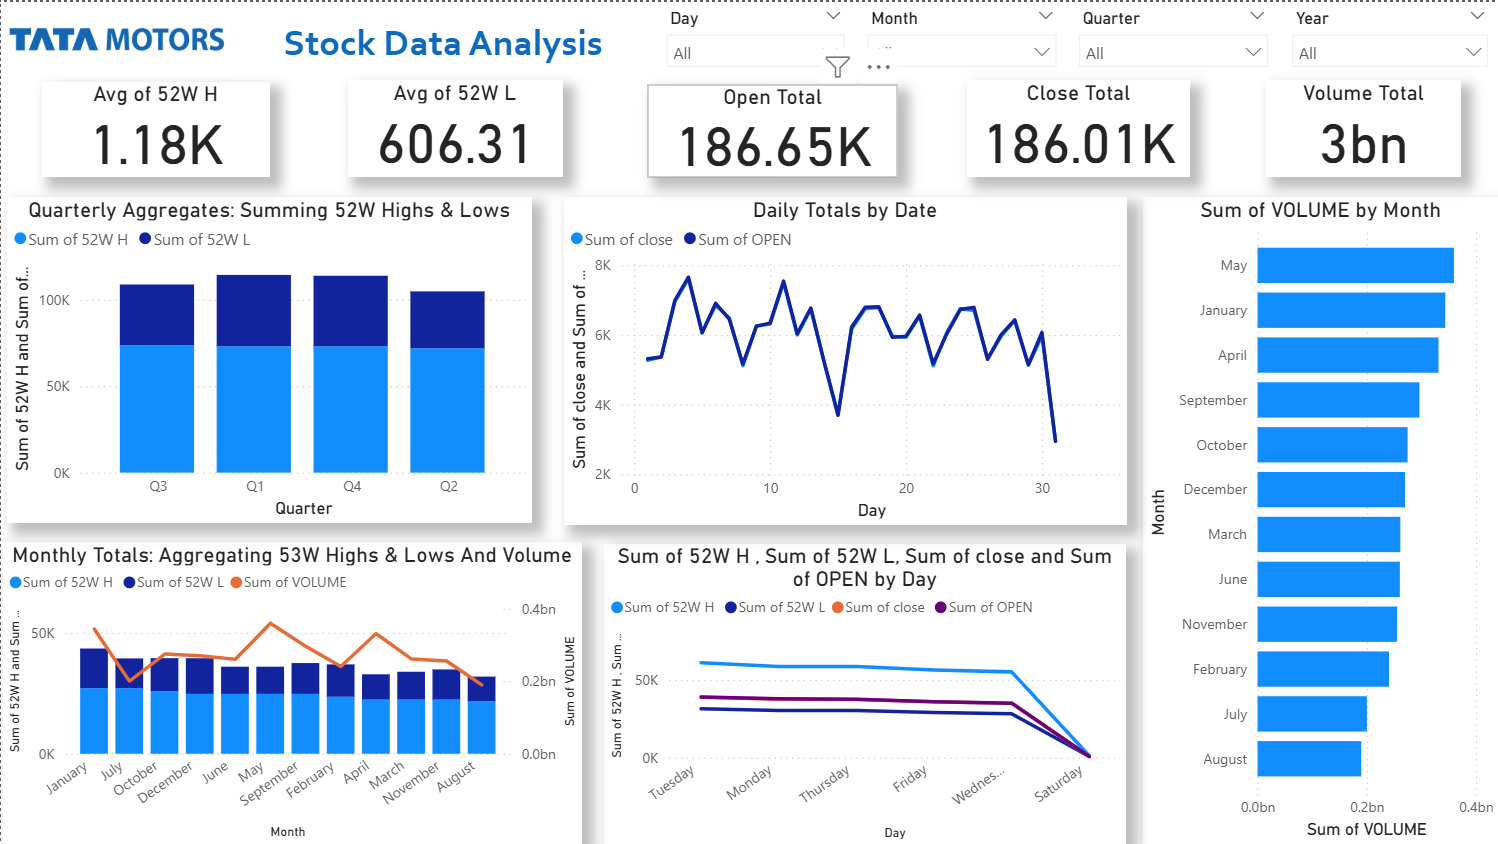

The page's visual inventory and layout, read from the dashboard file:
{"tool":"powerbi","page":{"name":"Page 1","canvas":[1280,720],"ordinal":0},"visuals":[{"type":"slicer","fields":{"Values":["tata_motors_stock.Day"]},"box":[559.2,0,171.7,67.7],"z":0},{"type":"slicer","fields":{"Values":["tata_motors_stock.Month"]},"box":[730.8,0,181.1,67.7],"z":1000},{"type":"slicer","fields":{"Values":["tata_motors_stock.Quarter"]},"box":[912,0,181.1,67.7],"z":2000},{"type":"slicer","fields":{"Values":["tata_motors_stock.Year"]},"box":[1093.1,0,187.4,67.7],"z":3000},{"type":"card","title":"Avg of 52W H","fields":{"Values":["Avg(tata_motors_stock.52W H )"]},"box":[34.7,67.7,195.3,81.9],"z":4000},{"type":"card","title":"Avg of 52W L","fields":{"Values":["Avg(tata_motors_stock.52W L)"]},"box":[296.4,67.2,183.9,82.3],"z":5000},{"type":"card","title":"Close Total","fields":{"Values":["Sum(tata_motors_stock.close )"]},"box":[826.1,67.2,190.8,82.3],"z":6000},{"type":"card","title":"Open Total","fields":{"Values":["Sum(tata_motors_stock.OPEN )"]},"box":[553,70,214.1,79.6],"z":7000},{"type":"card","title":"Volume Total","fields":{"Values":["Sum(tata_motors_stock.VOLUME )"]},"box":[1081.4,67.2,167.4,82.3],"z":8000},{"type":"columnChart","title":"Quarterly Aggregates: Summing 52W Highs & Lows","fields":{"Y":["Sum(tata_motors_stock.52W H )","Sum(tata_motors_stock.52W L)"],"Category":["tata_motors_stock.Quarter"]},"box":[5.5,166.1,448.8,278.6],"z":9000},{"type":"lineStackedColumnComboChart","title":"Monthly Totals: Aggregating 53W Highs & Lows And Volume","fields":{"Y":["Sum(tata_motors_stock.52W H )","Sum(tata_motors_stock.52W L)"],"Category":["tata_motors_stock.Month"],"Y2":["Sum(tata_motors_stock.VOLUME )"]},"box":[1.4,462,495.4,258],"z":10000},{"type":"lineChart","title":"Daily Totals by Date","fields":{"Y":["Sum(tata_motors_stock.close )","Sum(tata_motors_stock.OPEN )"],"Category":["tata_motors_stock.Date .Variation.Date Hierarchy.Day"]},"box":[480.3,166.1,481.7,280],"z":11000},{"type":"lineChart","fields":{"Category":["tata_motors_stock.Day"],"Y":["Sum(tata_motors_stock.52W H )","Sum(tata_motors_stock.52W L)","Sum(tata_motors_stock.close )","Sum(tata_motors_stock.OPEN )"]},"box":[516,462.5,446,258],"z":12000},{"type":"clusteredBarChart","fields":{"Category":["tata_motors_stock.Month"],"Y":["Sum(tata_motors_stock.VOLUME )"]},"box":[975.3,166.1,304.7,553],"z":13000},{"type":"image","box":[0,0,197.6,61.8],"z":14000},{"type":"textbox","box":[197.2,9,360.8,52.8],"z":15000}]}

Visuals, with their boxes in screenshot pixels (x1, y1, x2, y2), scaled from the page's 1280x720 canvas onto the 1498x844 screenshot:
slicer - tata_motors_stock.Day: {"left": 654, "top": 0, "right": 855, "bottom": 79}
slicer - tata_motors_stock.Month: {"left": 855, "top": 0, "right": 1067, "bottom": 79}
slicer - tata_motors_stock.Quarter: {"left": 1067, "top": 0, "right": 1279, "bottom": 79}
slicer - tata_motors_stock.Year: {"left": 1279, "top": 0, "right": 1497, "bottom": 79}
"Avg of 52W H" card: {"left": 41, "top": 79, "right": 269, "bottom": 175}
"Avg of 52W L" card: {"left": 347, "top": 79, "right": 562, "bottom": 175}
"Close Total" card: {"left": 967, "top": 79, "right": 1190, "bottom": 175}
"Open Total" card: {"left": 647, "top": 82, "right": 898, "bottom": 175}
"Volume Total" card: {"left": 1266, "top": 79, "right": 1461, "bottom": 175}
"Quarterly Aggregates: Summing 52W Highs & Lows" columnChart: {"left": 6, "top": 195, "right": 532, "bottom": 521}
"Monthly Totals: Aggregating 53W Highs & Lows And Volume" lineStackedColumnComboChart: {"left": 2, "top": 542, "right": 581, "bottom": 843}
"Daily Totals by Date" lineChart: {"left": 562, "top": 195, "right": 1126, "bottom": 523}
lineChart - tata_motors_stock.Day x Sum(tata_motors_stock.52W H ): {"left": 604, "top": 542, "right": 1126, "bottom": 843}
clusteredBarChart - tata_motors_stock.Month x Sum(tata_motors_stock.VOLUME ): {"left": 1141, "top": 195, "right": 1497, "bottom": 843}
image: {"left": 0, "top": 0, "right": 231, "bottom": 72}
textbox: {"left": 231, "top": 11, "right": 653, "bottom": 72}
